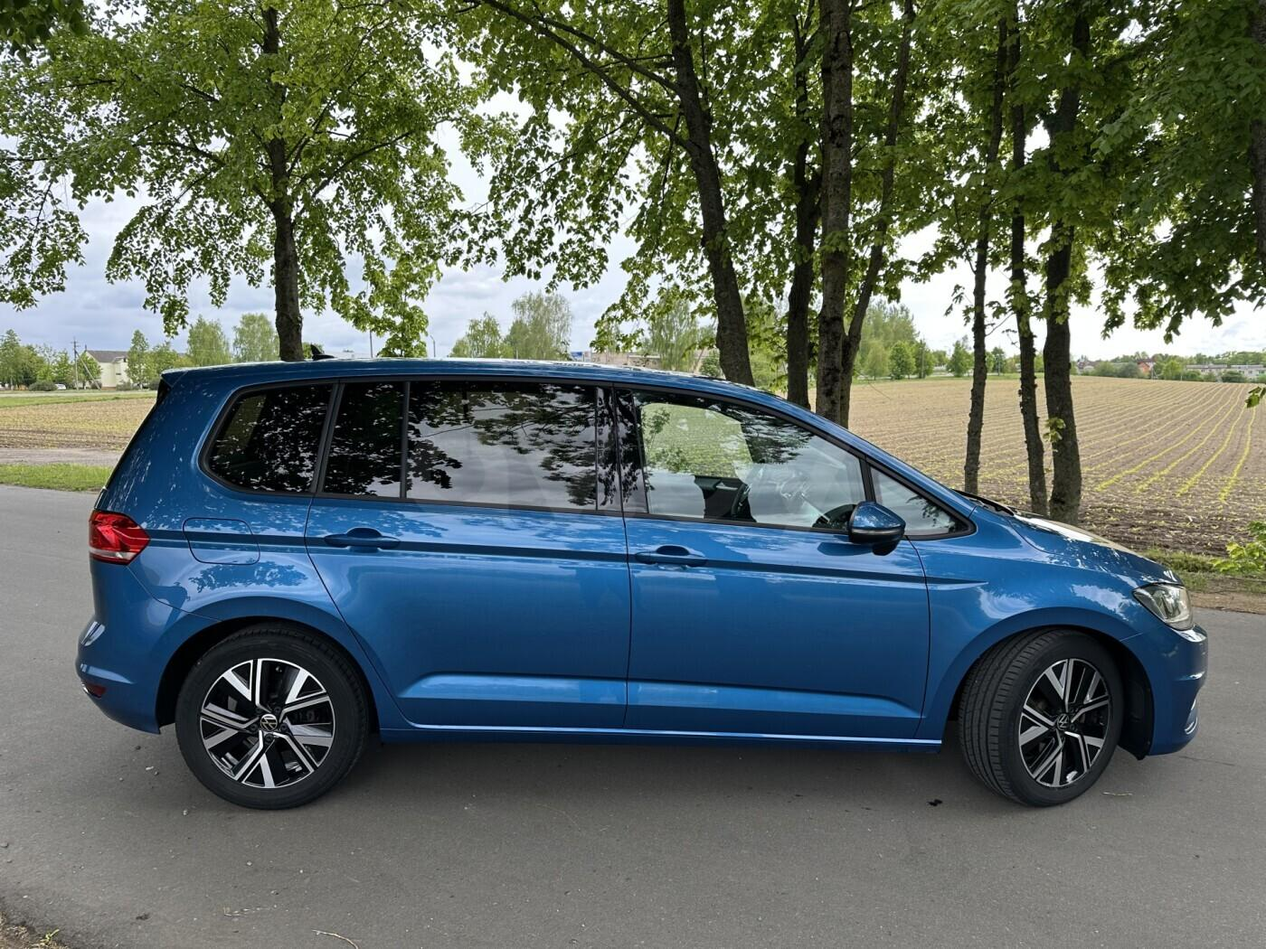Touran_2015: (74, 355, 1205, 816)
